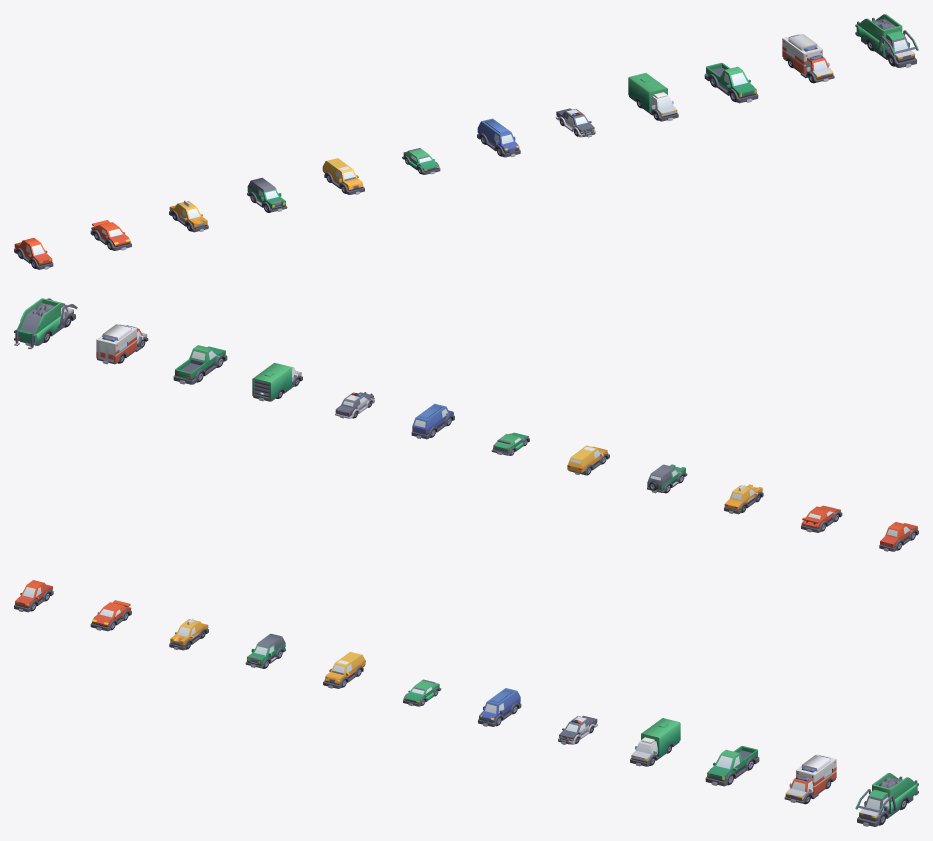
Rendered from traffic.glb.
The picture shows the model from 3 angles, top to bottom: view 1: azimuth 30°, elevation 25°; view 2: azimuth 150°, elevation 25°; view 3: azimuth 330°, elevation 25°; orthographic projection.
Parts seen in each view (by area): view 1: garbage-truck, ambulance, delivery, truck, van, suv-luxury, suv, sedan-sports, sedan, taxi, police, hatchback-sports; view 2: garbage-truck, ambulance, delivery, truck, van, suv-luxury, suv, sedan, taxi, sedan-sports, police, hatchback-sports; view 3: garbage-truck, ambulance, delivery, truck, van, suv-luxury, suv, sedan-sports, sedan, taxi, police, hatchback-sports.
Part boxes in pixels (x1,y1,x2,y2): garbage-truck: [855, 14, 918, 67]; ambulance: [782, 33, 834, 83]; delivery: [628, 73, 678, 121]; truck: [704, 62, 758, 103]; van: [477, 118, 520, 157]; suv-luxury: [322, 158, 364, 194]; suv: [247, 177, 287, 212]; sedan-sports: [90, 220, 131, 250]; sedan: [14, 238, 53, 269]; taxi: [169, 200, 208, 232]; police: [555, 108, 595, 137]; hatchback-sports: [402, 148, 440, 174]; garbage-truck: [14, 298, 77, 348]; ambulance: [96, 324, 148, 364]; delivery: [252, 363, 302, 401]; truck: [173, 345, 227, 384]; van: [411, 403, 454, 439]; suv-luxury: [567, 445, 609, 475]; suv: [647, 464, 687, 493]; sedan: [879, 522, 918, 551]; taxi: [724, 484, 763, 514]; sedan-sports: [801, 505, 842, 532]; police: [335, 392, 374, 418]; hatchback-sports: [491, 432, 529, 455]; garbage-truck: [855, 773, 918, 826]; ambulance: [784, 754, 836, 804]; delivery: [630, 718, 680, 766]; truck: [705, 746, 759, 786]; van: [478, 688, 521, 726]; suv-luxury: [323, 652, 365, 688]; suv: [245, 633, 285, 668]; sedan-sports: [90, 600, 131, 631]; sedan: [14, 580, 53, 612]; taxi: [169, 618, 208, 650]; police: [558, 715, 597, 744]; hatchback-sports: [403, 679, 441, 706].
Bounding box in the file's own units: 90.18 × 2.97 × 8.
Materials: 1 (1 with a texture image).
